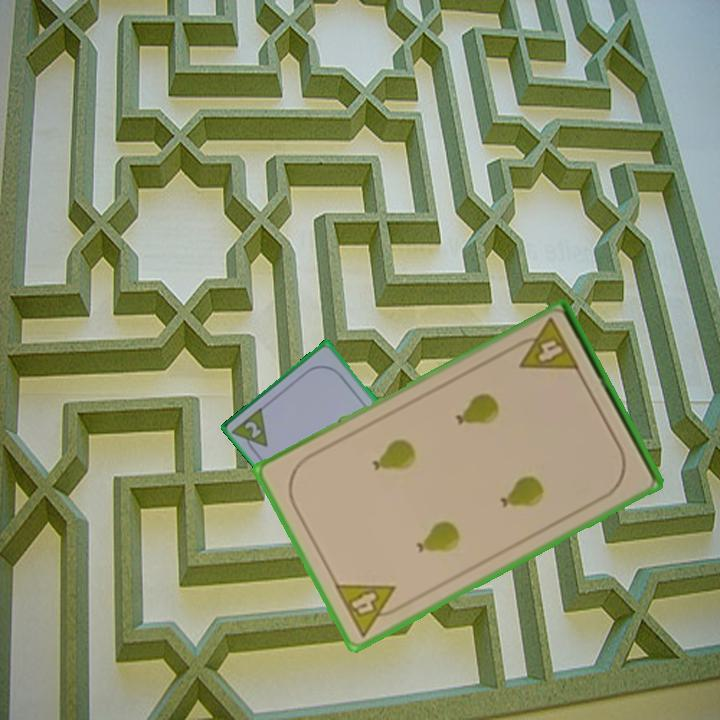2p: (230, 403, 272, 459)
4p: (331, 580, 408, 640), (508, 315, 583, 375)
